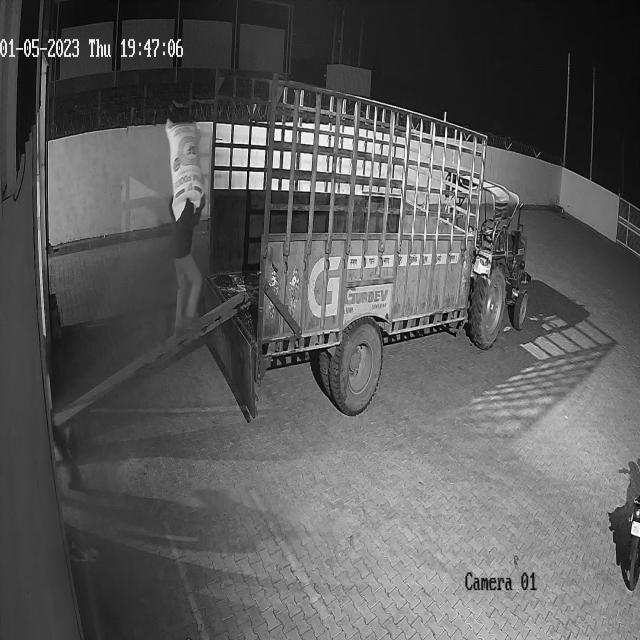sack: (166, 118, 203, 220)
